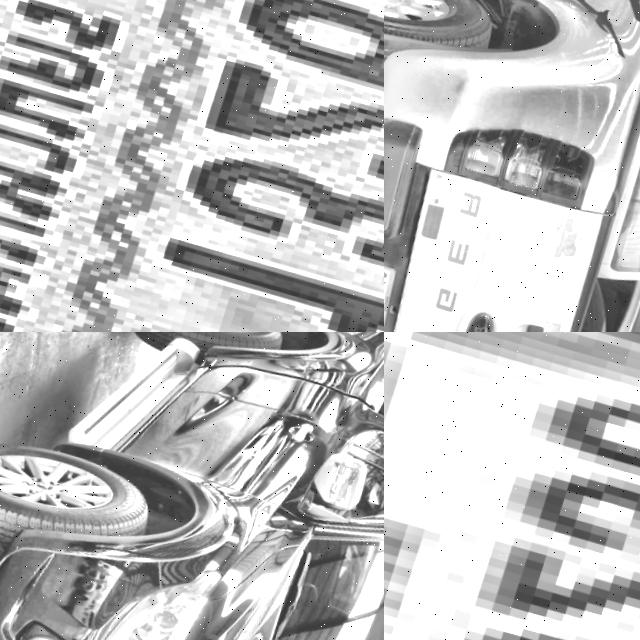license-plate: (0, 0, 384, 332), (384, 332, 640, 640), (384, 245, 411, 332)
